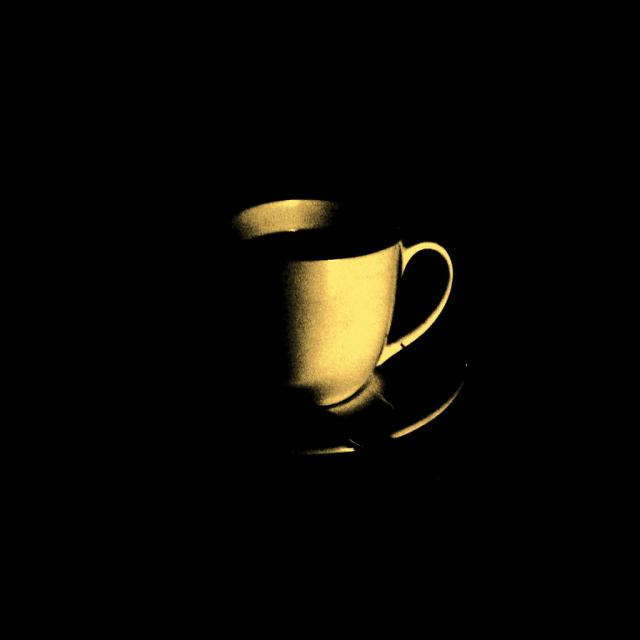Cup: (179, 109, 483, 492)
